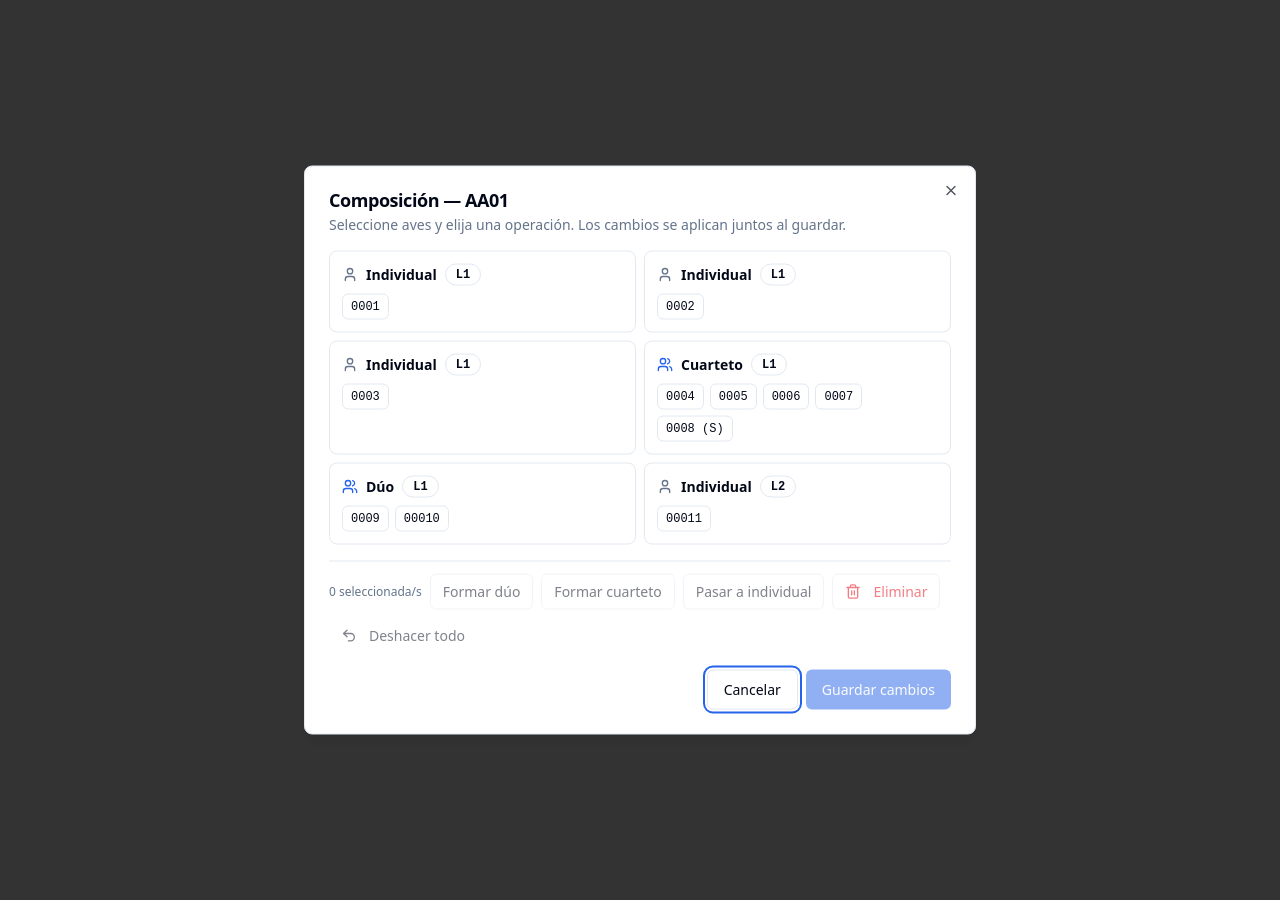
<ComposicionEditor /> › con un dúo incompleto el botón Guardar queda deshabilitado
This screenshot has width=1280, height=900.
Click the button "0009".
click(365, 518)  # box [342, 506, 389, 532]
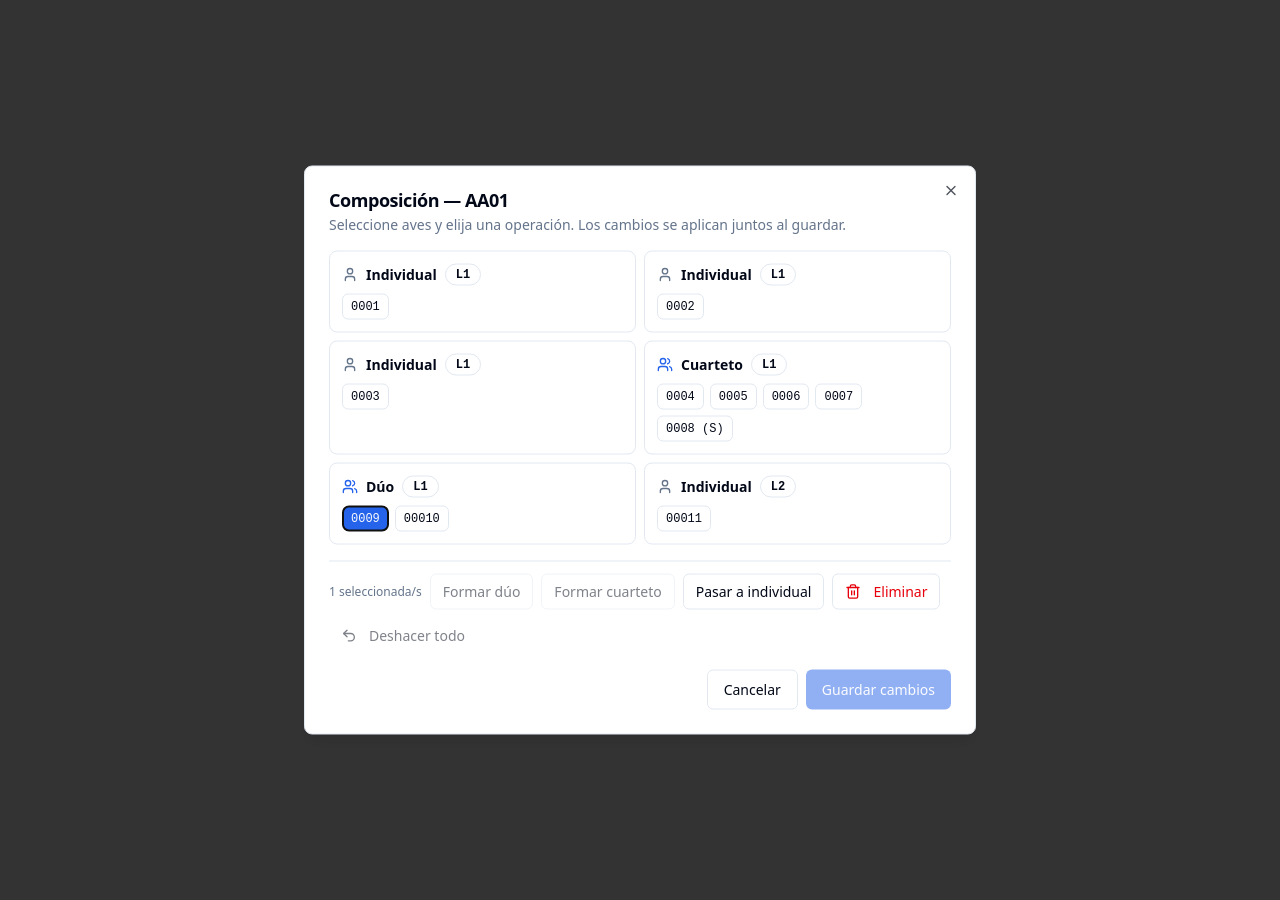
Click the button "Pasar a individual".
click(754, 592)  # box [683, 574, 824, 610]
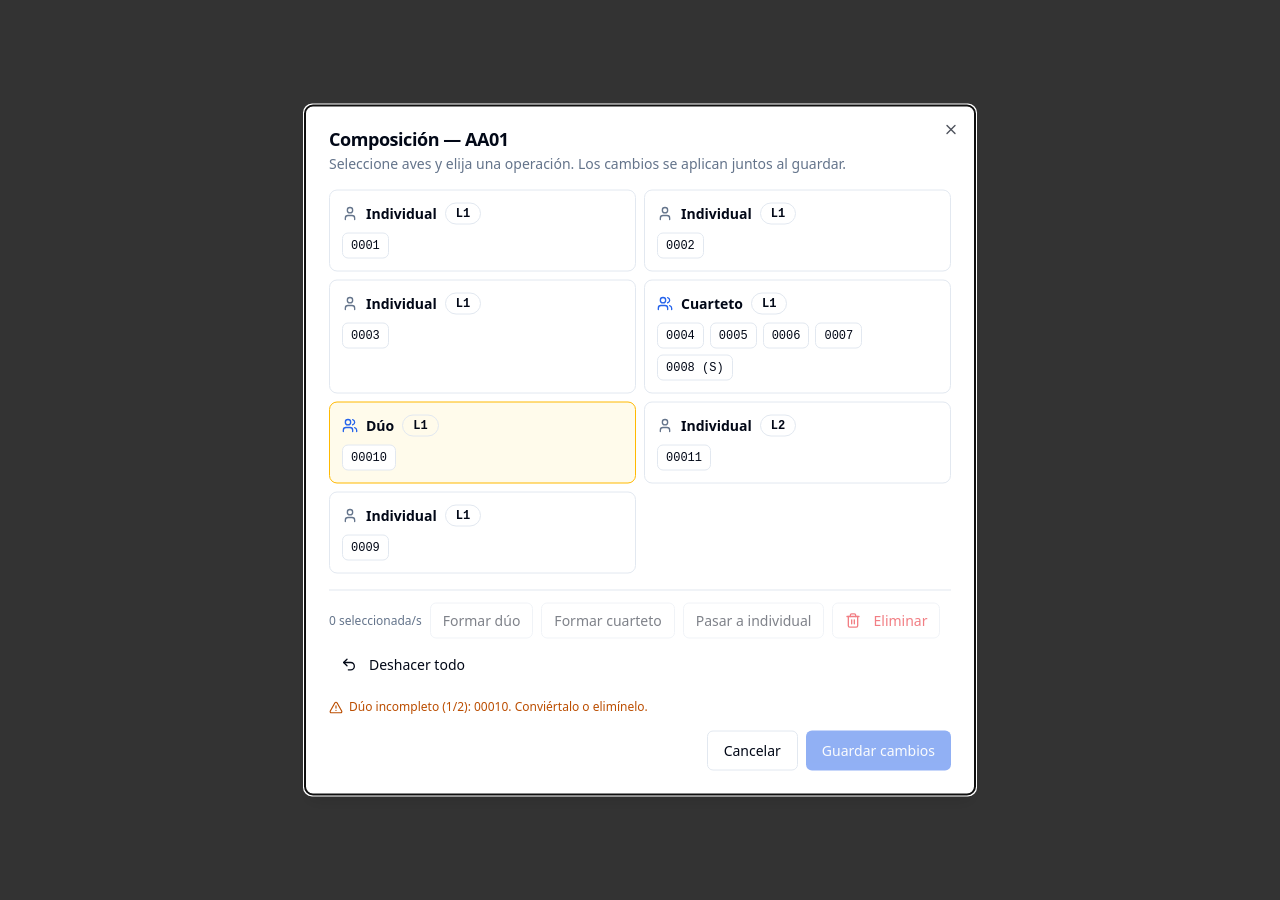
Expected: the button "Guardar cambios" is disabled, [806, 730, 951, 770]
Now the text "Dúo incompleto (1/2): 00010. Conviértalo o elimínelo." is shown, box [329, 698, 648, 714]
